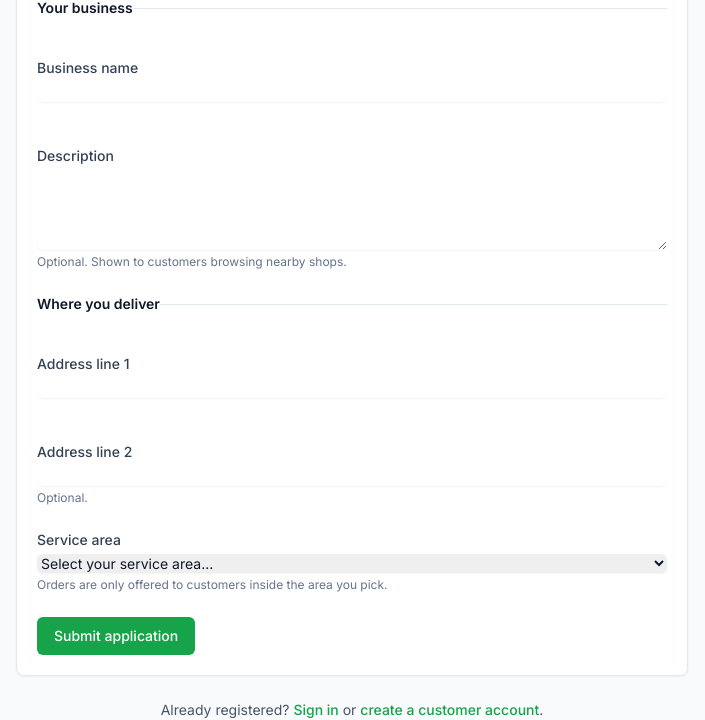
VendorRegisterPage › blocks an empty submit and reports the required fields
(page scrolled)
Expected: the dropdown labelled "Service area" is shown, [37, 554, 667, 573]
Click the button "Submit application". click: [116, 636]
box: [37, 617, 195, 655]
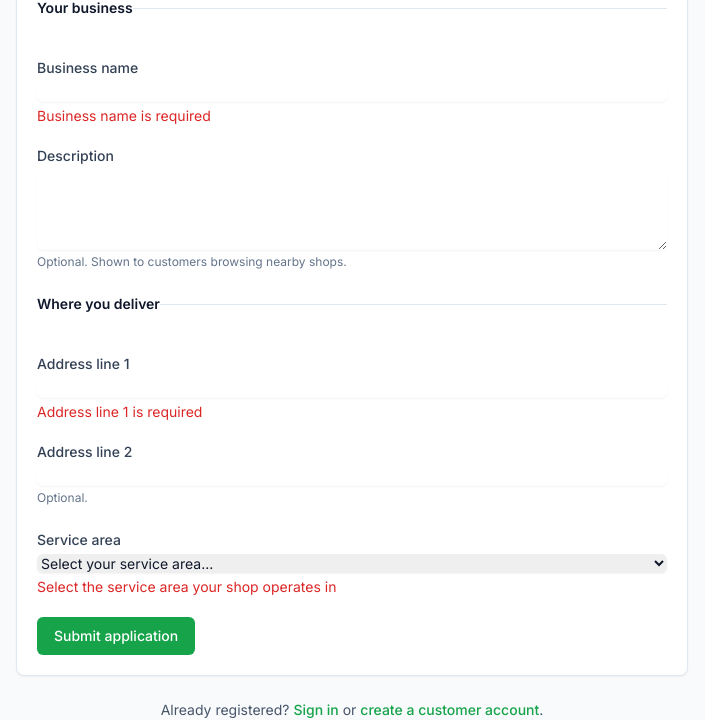
Now the text "Business name is required" is shown, box [37, 107, 211, 124]
Now the text "Address line 1 is required" is shown, box [37, 403, 202, 420]
Now the text "Select the service area your shop operates in" is shown, box [37, 578, 336, 595]
